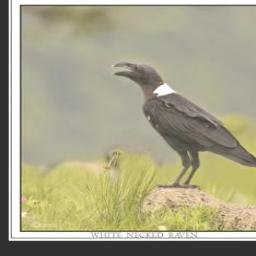Crow: (109, 60, 256, 190)
